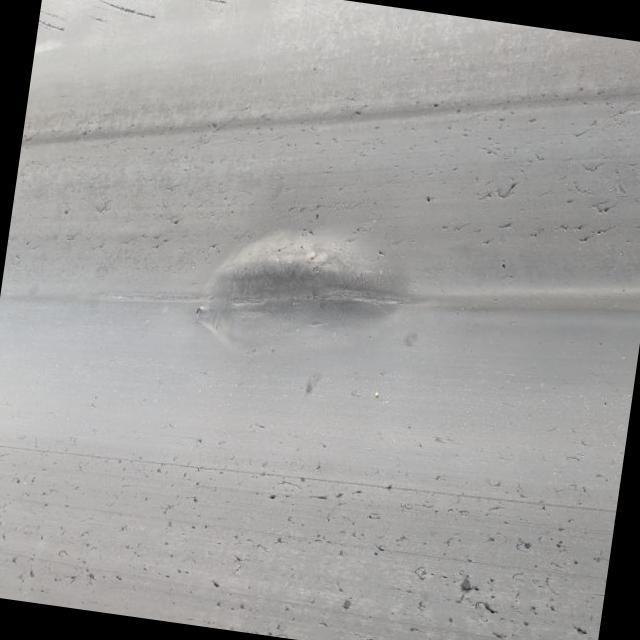Impact Damage: (191, 225, 419, 361)
Puncture: (454, 570, 476, 596), (569, 622, 590, 640), (478, 601, 499, 617), (264, 491, 280, 504), (208, 578, 224, 591), (374, 245, 386, 258), (382, 482, 394, 494), (194, 436, 206, 446), (423, 194, 434, 204), (62, 207, 72, 218), (190, 496, 200, 506), (430, 102, 440, 110)
